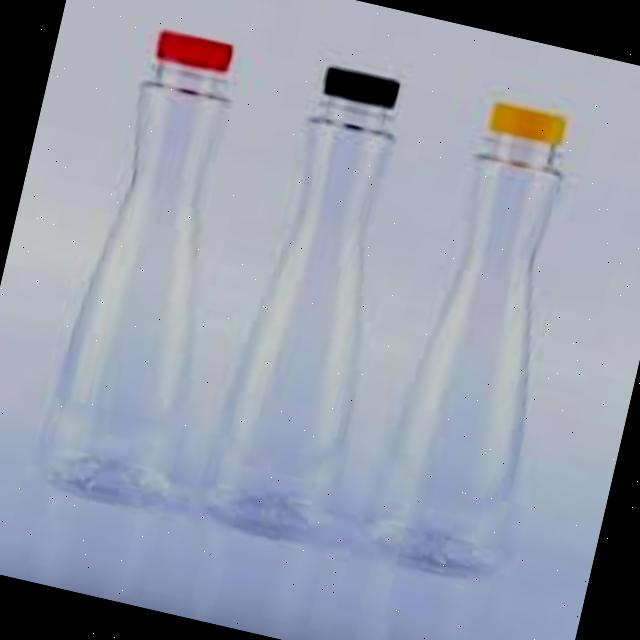trash: (0, 4, 290, 518), (349, 86, 618, 595), (186, 52, 440, 562)
